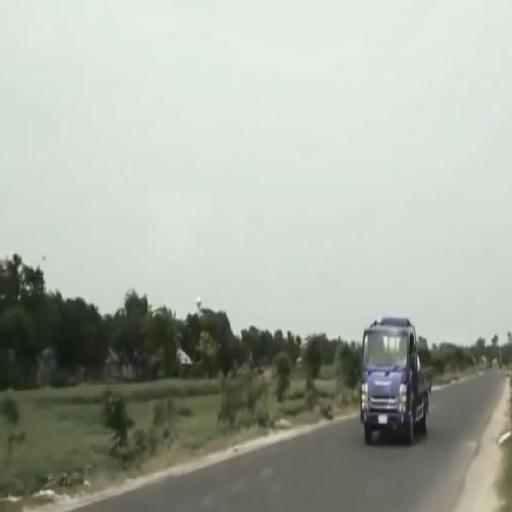pickup: (361, 319, 434, 447)
